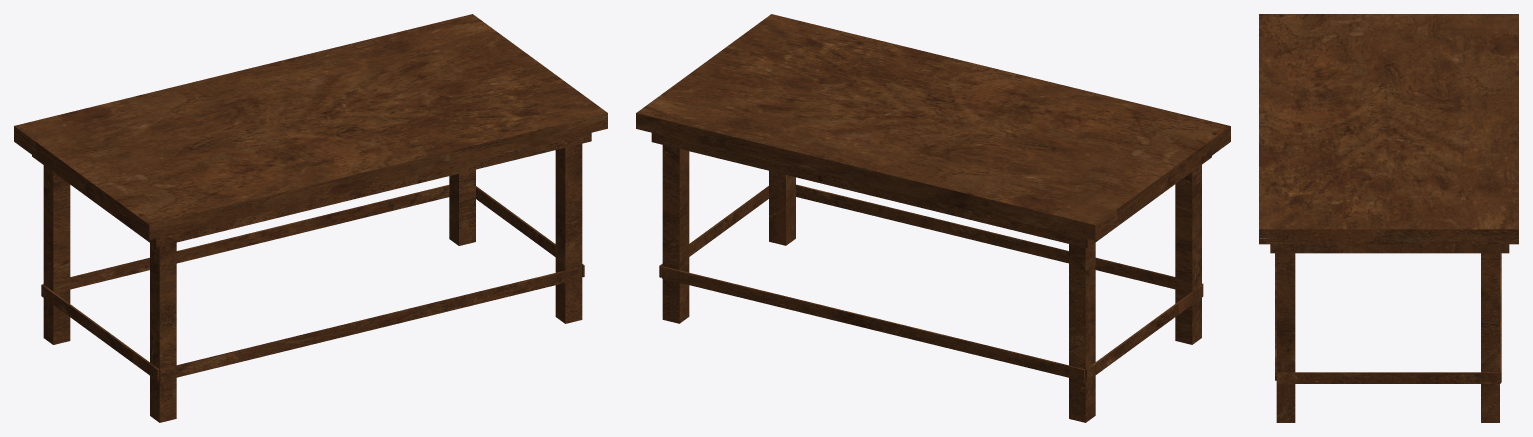
Rendered from table.fbx.
3 views of the same model, side by side, from view 1: azimuth 30°, elevation 25°; view 2: azimuth 150°, elevation 25°; view 3: azimuth 270°, elevation 25° (orthographic). The views are drawn at different scales.
Parts seen in each view (by area): view 1: table; view 2: table; view 3: table.
Boxes of the visible parts, x1,y1,x2,y2 form: table: (14,14,607,422); table: (636,14,1230,422); table: (1259,14,1518,422).
Bounding box in the file's own units: 304 × 133 × 155.
